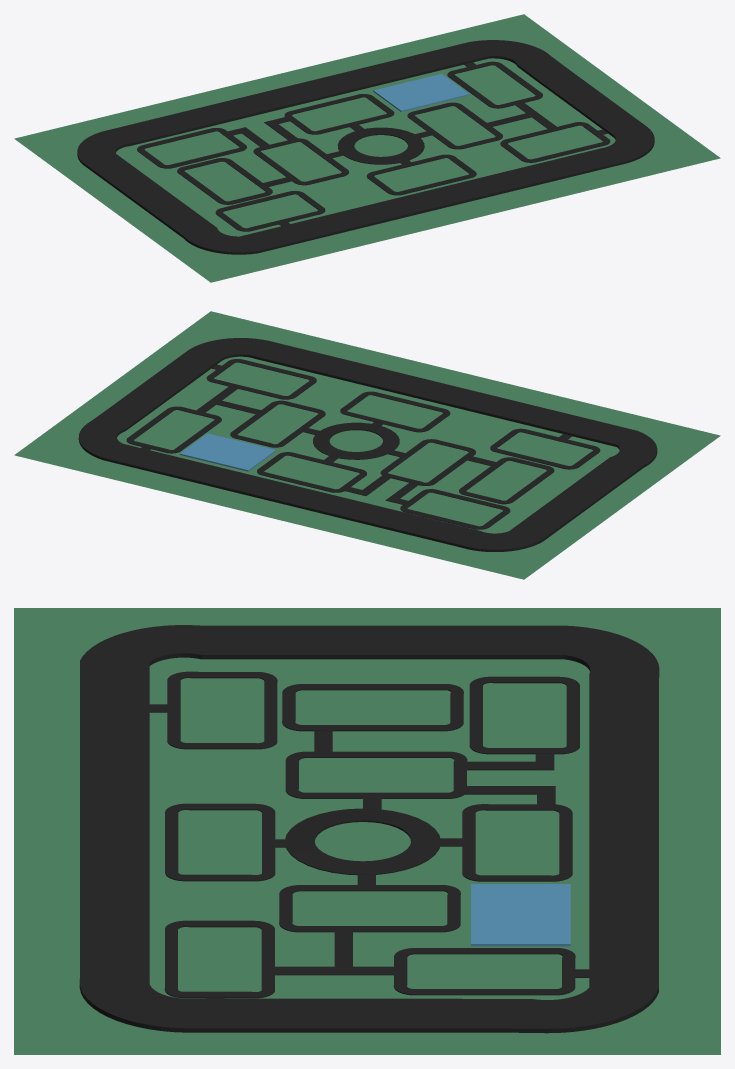
File: city map (1).fbx
The picture shows the model from 3 angles, top to bottom: view 1: azimuth 30°, elevation 25°; view 2: azimuth 150°, elevation 25°; view 3: azimuth 270°, elevation 25°; orthographic projection. The views are drawn at different scales.
Parts seen in each view (by area): view 1: Plane.024, Plane, Plane.025, Circle, Plane.006, Plane.005, Plane.008, Plane.007, Plane.009, Plane.002, Plane.003, Plane.004 (+1 smaller); view 2: Plane.024, Plane, Plane.025, Circle, Plane.007, Plane.006, Plane.008, Plane.005, Plane.009, Plane.001, Plane.003, Plane.004 (+1 smaller); view 3: Plane.024, Plane, Plane.025, Circle, Plane.002, Plane.004, Plane.003, Plane.006, Plane.001, Plane.005, Plane.008, Plane.007 (+3 smaller).
Part boxes in pixels (x1,y1,x2,y2): Plane.024: (14, 14, 720, 282); Plane: (77, 40, 654, 254); Plane.025: (373, 74, 469, 111); Circle: (337, 127, 424, 164); Plane.006: (366, 154, 476, 195); Plane.005: (500, 122, 610, 162); Plane.008: (137, 128, 246, 168); Plane.007: (215, 191, 325, 231); Plane.009: (284, 94, 394, 134); Plane.002: (253, 138, 348, 185); Plane.003: (407, 102, 502, 149); Plane.004: (447, 61, 542, 108); Plane.024: (14, 311, 720, 579); Plane: (78, 338, 657, 551); Plane.025: (180, 433, 275, 471); Circle: (313, 422, 399, 459); Plane.007: (490, 428, 600, 469); Plane.006: (340, 391, 450, 432); Plane.008: (400, 489, 510, 529); Plane.005: (206, 359, 316, 399); Plane.009: (257, 452, 366, 492); Plane.001: (459, 457, 554, 504); Plane.003: (230, 400, 325, 447); Plane.004: (126, 406, 221, 453); Plane.024: (14, 608, 720, 1054); Plane: (79, 625, 659, 1033); Plane.025: (471, 884, 570, 946); Circle: (284, 808, 440, 875); Plane.002: (285, 751, 467, 798); Plane.004: (393, 948, 575, 995); Plane.003: (279, 885, 460, 932); Plane.006: (165, 803, 275, 881); Plane.001: (282, 684, 463, 731); Plane.005: (164, 920, 274, 998); Plane.008: (469, 676, 579, 754); Plane.007: (167, 671, 277, 749).
Size of the model in its own units: 499 by 4.82 by 334.
